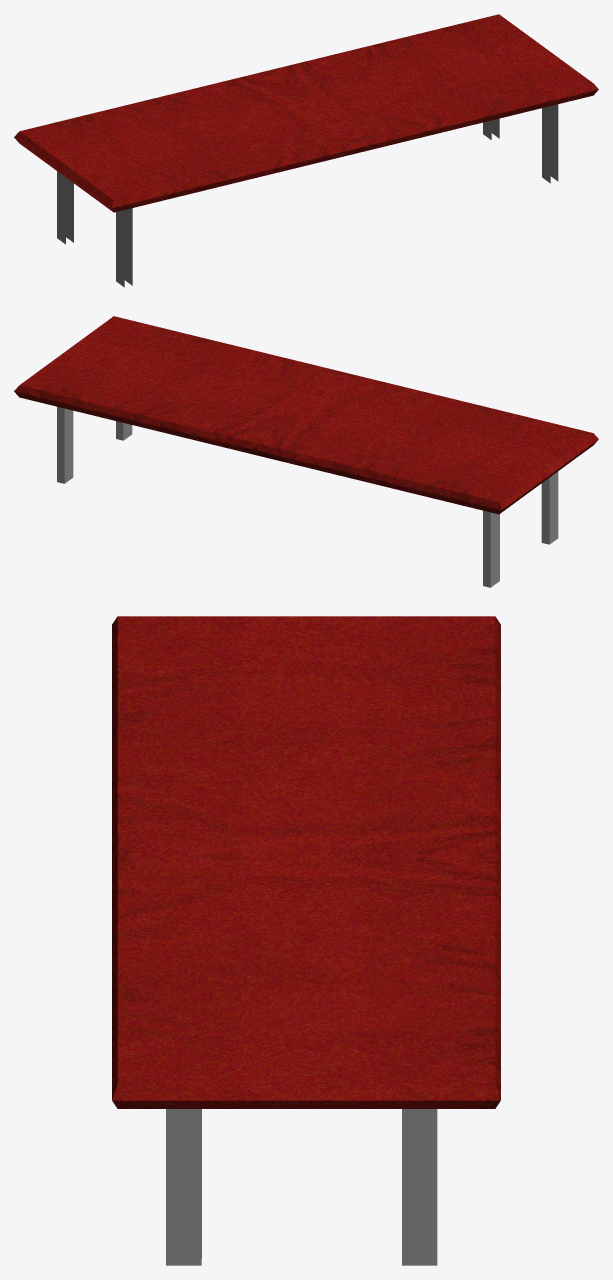
The model's file is ESTADIO_bancaCorta.FBX.
3 views of the same model, one above another, from view 1: azimuth 30°, elevation 25°; view 2: azimuth 150°, elevation 25°; view 3: azimuth 270°, elevation 25° (orthographic). The views are drawn at different scales.
Visible parts, largest first — view 1: ESTADIO_bancaCorta; view 2: ESTADIO_bancaCorta; view 3: ESTADIO_bancaCorta.
Boxes of the visible parts, x1=… form: ESTADIO_bancaCorta: x1=14, y1=14, x2=598, y2=287; ESTADIO_bancaCorta: x1=14, y1=316, x2=598, y2=587; ESTADIO_bancaCorta: x1=112, y1=616, x2=500, y2=1265.
Size of the model in its own units: 207 by 41.33 by 71.54.
